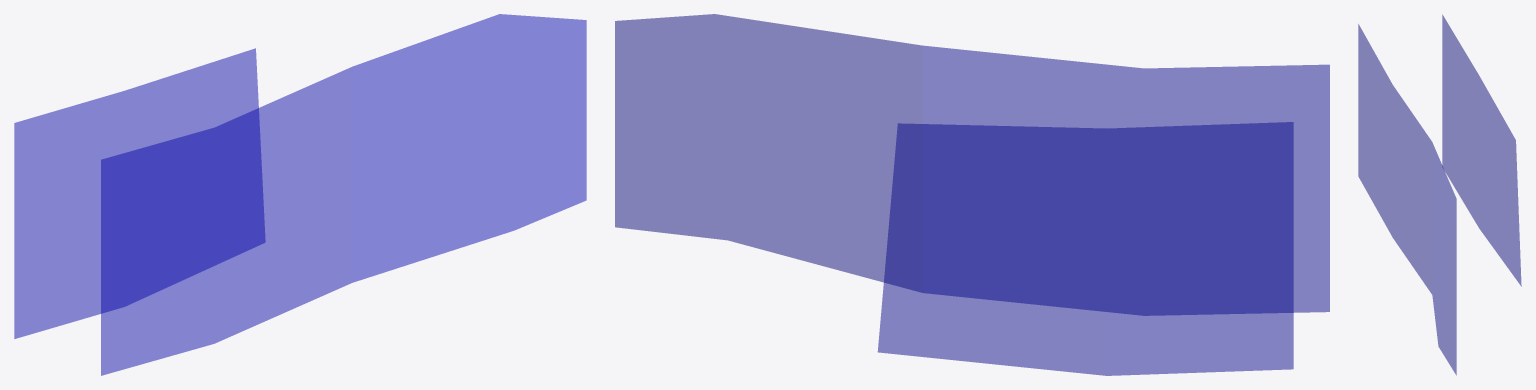
The model's file is track_military_coll_wall_35.fbx.
The picture shows the model from 3 angles, left to right: view 1: azimuth 30°, elevation 25°; view 2: azimuth 150°, elevation 25°; view 3: azimuth 270°, elevation 25°; orthographic projection. The views are drawn at different scales.
Parts seen in each view (by area): view 1: track_military_coll_wall_35; view 2: track_military_coll_wall_35; view 3: track_military_coll_wall_35.
Boxes of the visible parts, <box> form: track_military_coll_wall_35: <box>14,14,586,375</box>; track_military_coll_wall_35: <box>615,14,1329,375</box>; track_military_coll_wall_35: <box>1358,14,1521,375</box>.
Size of the model in its own units: 113 by 43.64 by 38.57.
